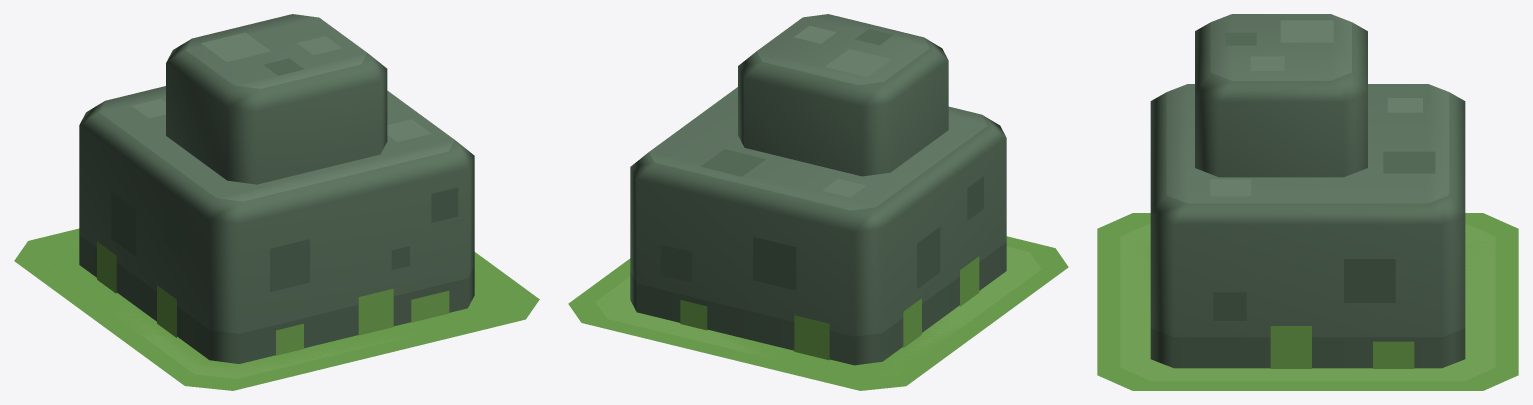
File: B_grass1_rock00.fbx
The picture shows the model from 3 angles, left to right: view 1: azimuth 30°, elevation 25°; view 2: azimuth 150°, elevation 25°; view 3: azimuth 270°, elevation 25°; orthographic projection. The views are drawn at different scales.
Visible parts, largest first — view 1: model 1, model; view 2: model 1, model; view 3: model 1, model.
Part boxes in pixels (box(x1,y1,x2,y2)): model 1: box(14, 14, 539, 390); model: box(43, 241, 430, 378); model 1: box(568, 14, 1068, 390); model: box(595, 246, 1041, 376); model 1: box(1097, 14, 1518, 390); model: box(1120, 223, 1495, 381).
Bounding box in the file's own units: 2.24 × 1.47 × 2.24.
